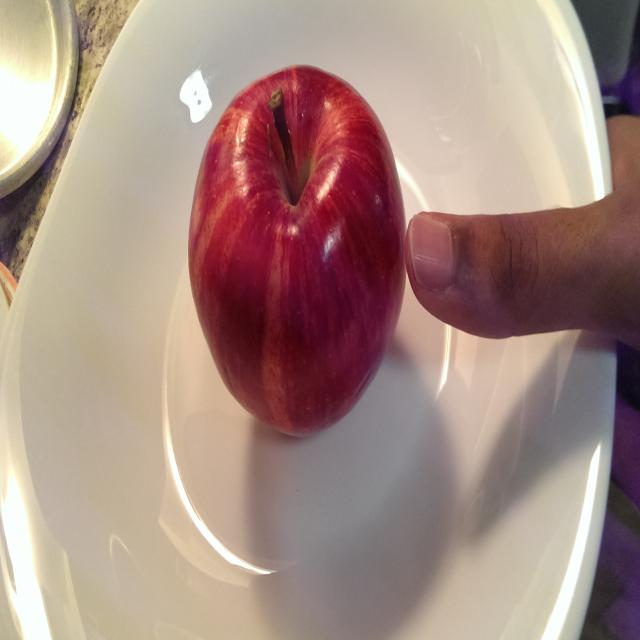apple: (175, 56, 409, 540)
